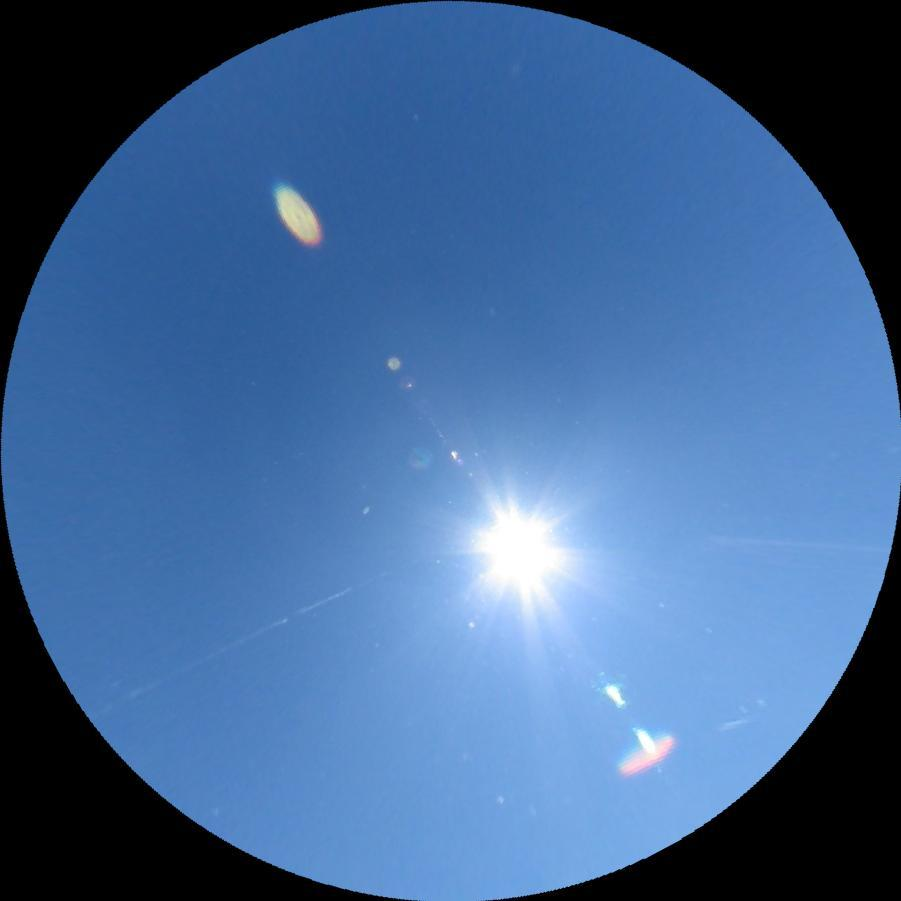parasite: (89, 583, 361, 718), (694, 535, 892, 553)
sun: (467, 502, 564, 595)
